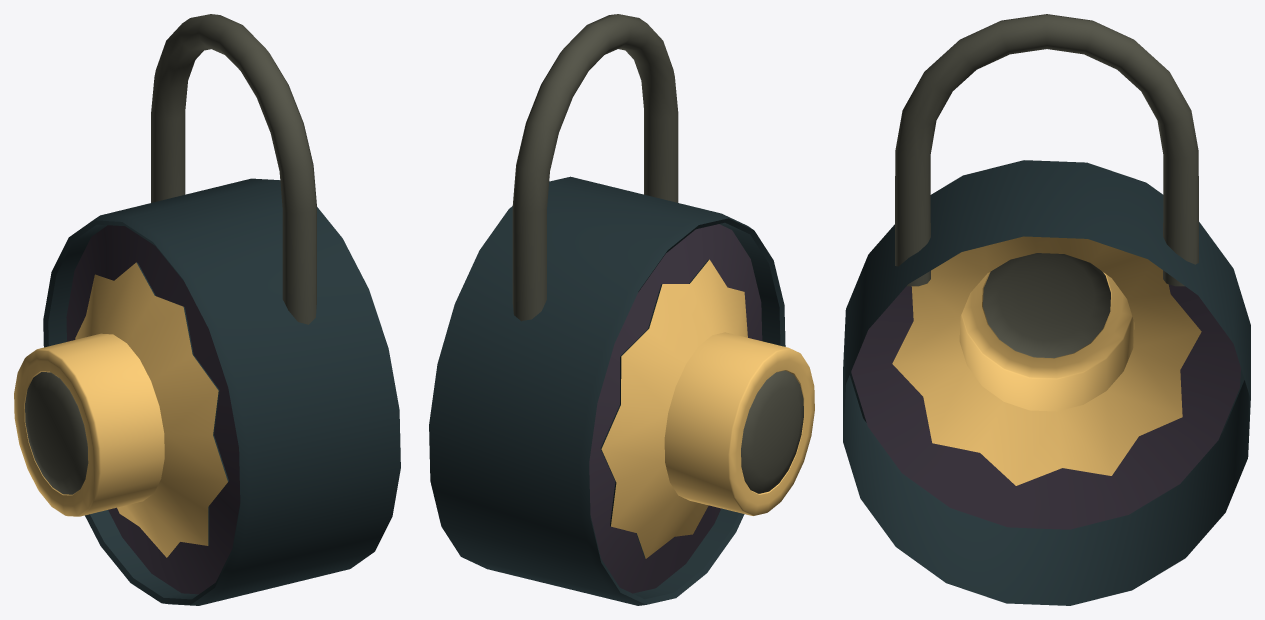
Rendered from OT_191_combination_padlock.glb.
3 renders of one model, left to right at view 1: azimuth 30°, elevation 25°; view 2: azimuth 150°, elevation 25°; view 3: azimuth 270°, elevation 25°, orthographic. The views are drawn at different scales.
Visible parts, largest first — view 1: combination_padlock; view 2: combination_padlock; view 3: combination_padlock.
Boxes of the visible parts, x1,y1,x2,y2 form: combination_padlock: (14, 14, 400, 605); combination_padlock: (429, 14, 814, 605); combination_padlock: (843, 14, 1250, 605).
Size of the model in its own units: 0.999 by 2.07 by 1.37.
